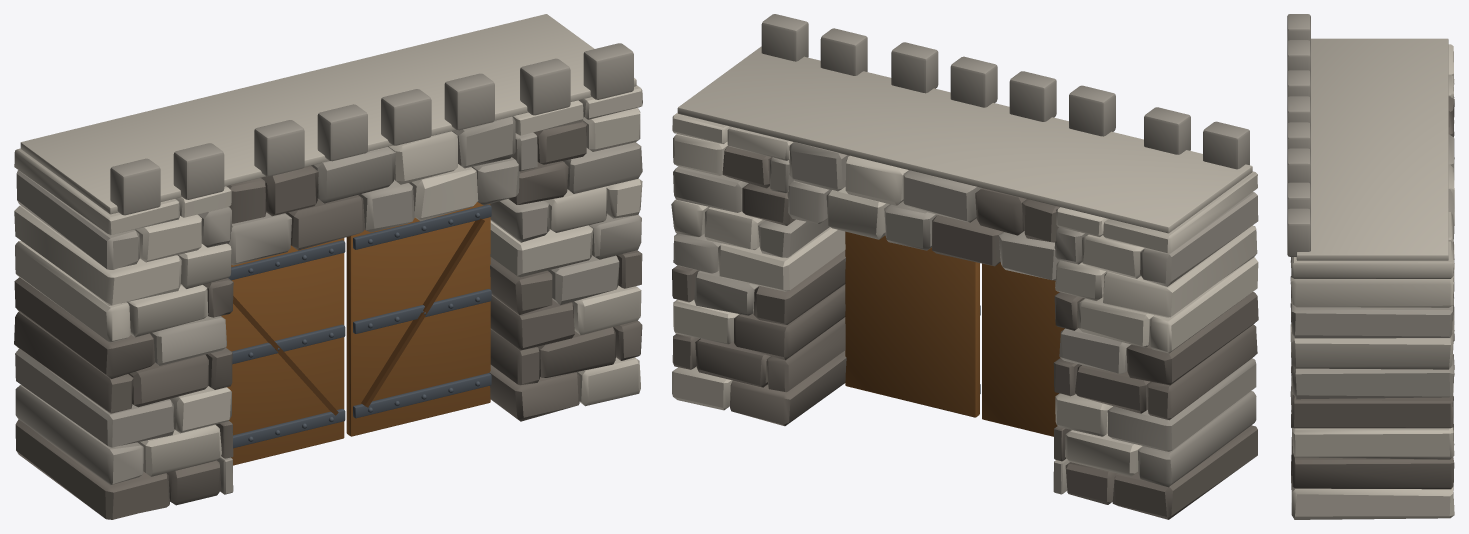
File: brama_3.glb
3 views of the same model, side by side, from view 1: azimuth 30°, elevation 25°; view 2: azimuth 150°, elevation 25°; view 3: azimuth 270°, elevation 25° (orthographic). The views are drawn at different scales.
Parts seen in each view (by area): view 1: brama_3; view 2: brama_3; view 3: brama_3.
Boxes of the visible parts, x1,y1,x2,y2 form: brama_3: (14, 14, 642, 519); brama_3: (671, 14, 1258, 519); brama_3: (1287, 14, 1454, 519).
Size of the model in its own units: 11.01 by 6.88 by 3.53.
